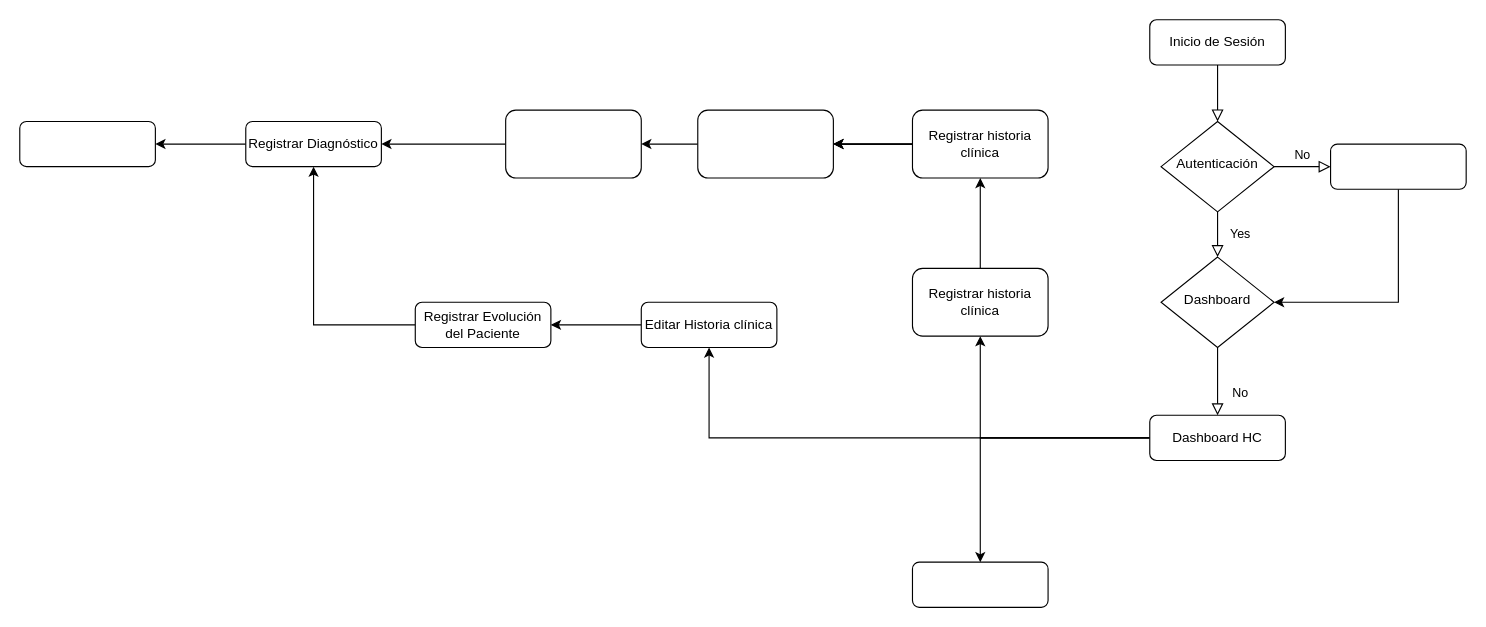
The diagram is 1486 pixels wide and 627 high, and some of its shapes have lost their labels. Here are the shapes that lost their labels. From the top down, the centre of each, then its label:
At point 87,143: "Generar Reporte Médico".
At point 573,143: "Adjuntar documento médicos".
At point 765,143: "Registrar Tratamientos y Procedimientos".
At point 1397,166: "Registro".
At point 979,584: "Consultar historia clínica".
